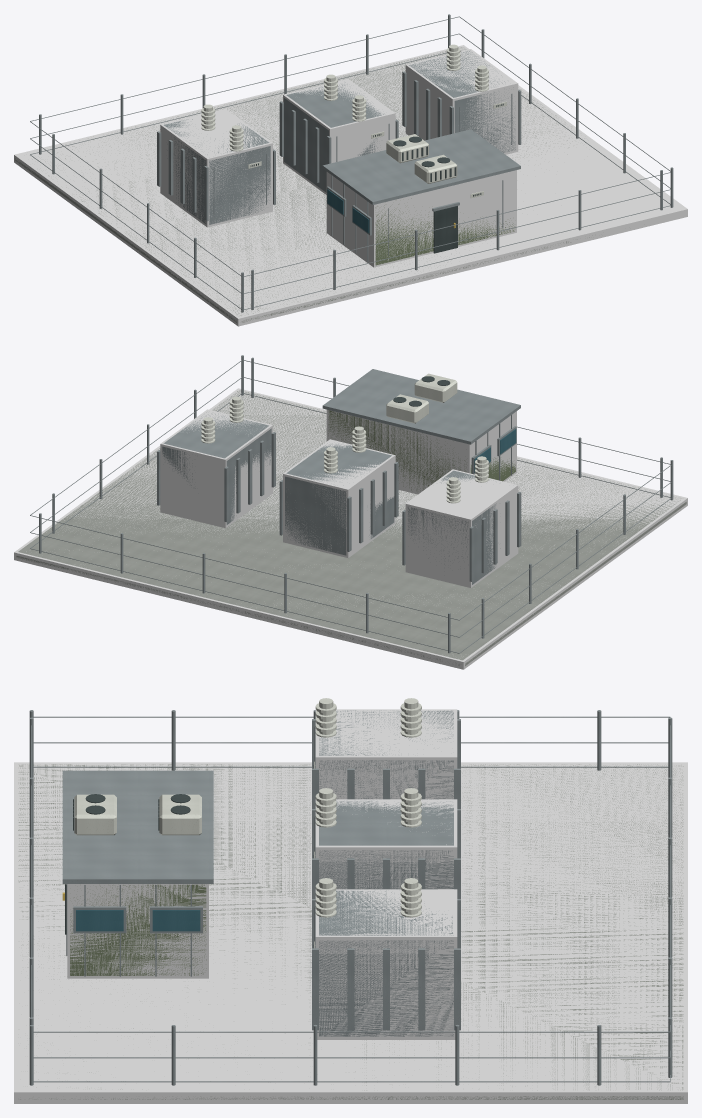
File: PowerSubstation.fbx
3 views of the same model, one above another, from view 1: azimuth 30°, elevation 25°; view 2: azimuth 150°, elevation 25°; view 3: azimuth 270°, elevation 25° (orthographic). The views are drawn at different scales.
Visible parts, largest first — view 1: COL_Static, LOD0; view 2: LOD0, COL_Static; view 3: COL_Static, LOD0.
Part boxes in pixels (bbox=[...]): COL_Static: bbox=[14, 45, 687, 326]; LOD0: bbox=[15, 14, 673, 322]; LOD0: bbox=[16, 355, 686, 665]; COL_Static: bbox=[14, 388, 687, 669]; COL_Static: bbox=[14, 709, 687, 1103]; LOD0: bbox=[18, 698, 683, 1099].
Size of what is drawn, in the model's own units: 2200 by 460 by 1900.
